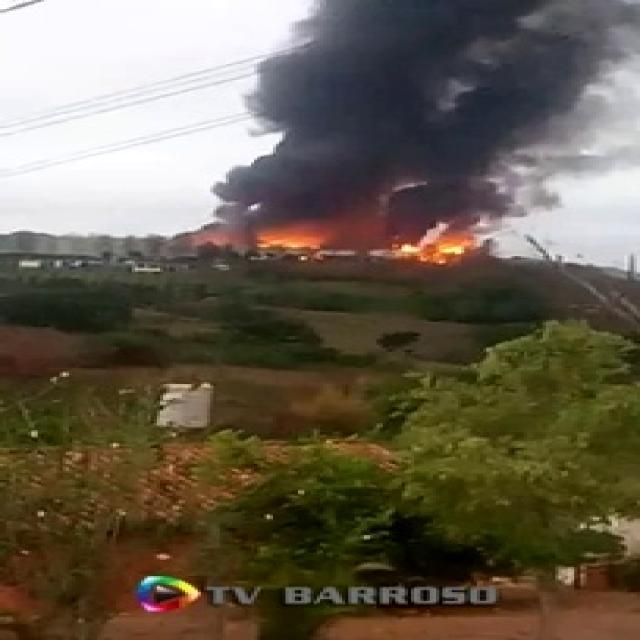Fire: (254, 231, 319, 260), (430, 237, 472, 264)
Smoke: (152, 0, 640, 258)
